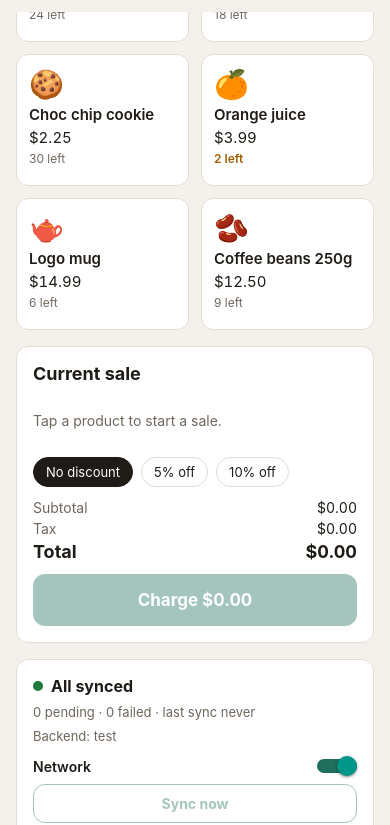
Test: <PosScreen> › keeps selling offline and shows the projected stock
(page scrolled)
Step 1. Click the switch named "Network connection" → x=337, y=766, box x1=317 y1=756 x2=357 y2=776
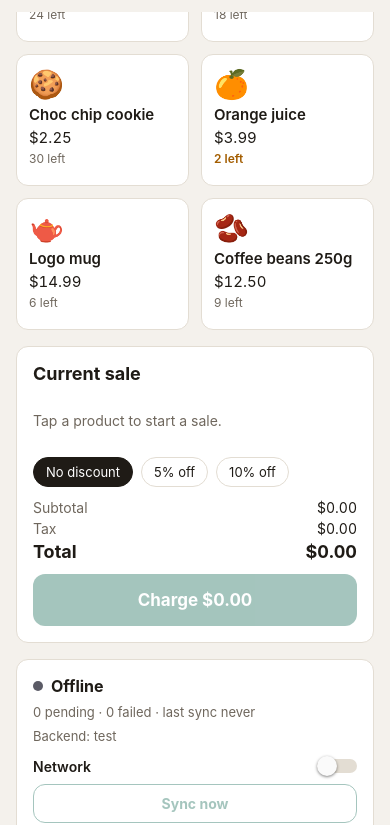
Step 2. Click the button with aria-label "Add Orange juice, $3.99, 2 left" → x=288, y=120, box x1=201 y1=54 x2=374 y2=186
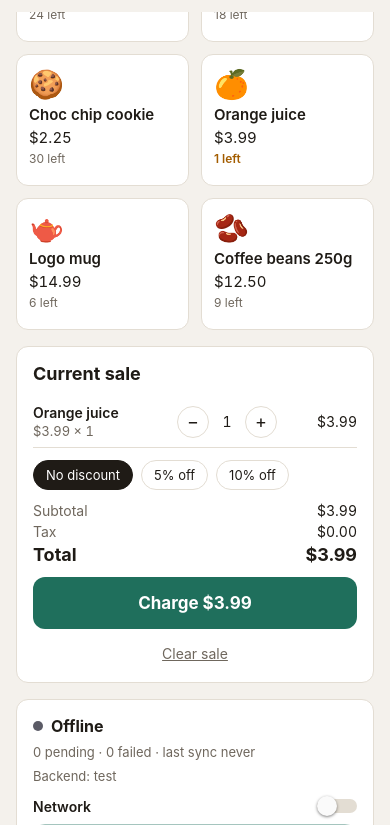
Step 3. Click the button "Charge $3.99" → x=195, y=603, box x1=33 y1=577 x2=357 y2=629
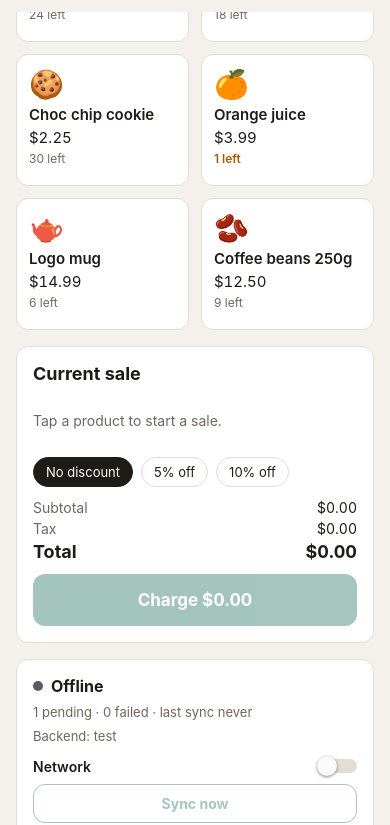
Expected: the button with aria-label "Add Orange juice, $3.99, 1 left" is shown, x1=201 y1=54 x2=374 y2=186
Expected: the heading with test id "sync-status" reads "Offline", x1=51 y1=676 x2=104 y2=696
Expected: the text with test id "sync-counts" shows "1 pending", x1=33 y1=704 x2=252 y2=720
Step 4. Click the switch named "Network connection" → x=337, y=766, box x1=317 y1=756 x2=357 y2=776
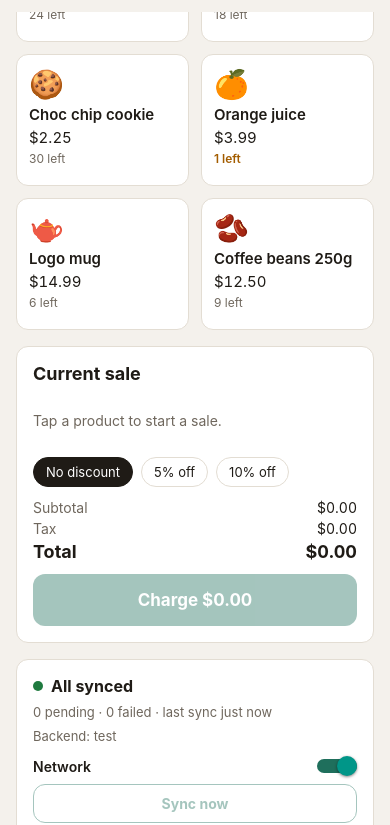
Expected: the text with test id "sync-counts" shows "0 pending", x1=33 y1=704 x2=272 y2=720
